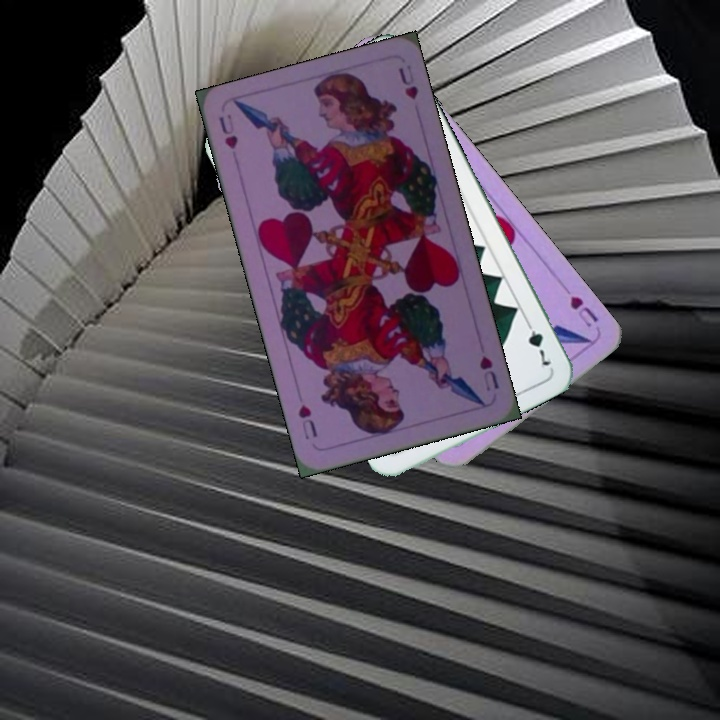G7: (521, 315, 554, 369)
HU: (565, 292, 602, 331), (475, 351, 502, 394), (214, 110, 241, 152)
